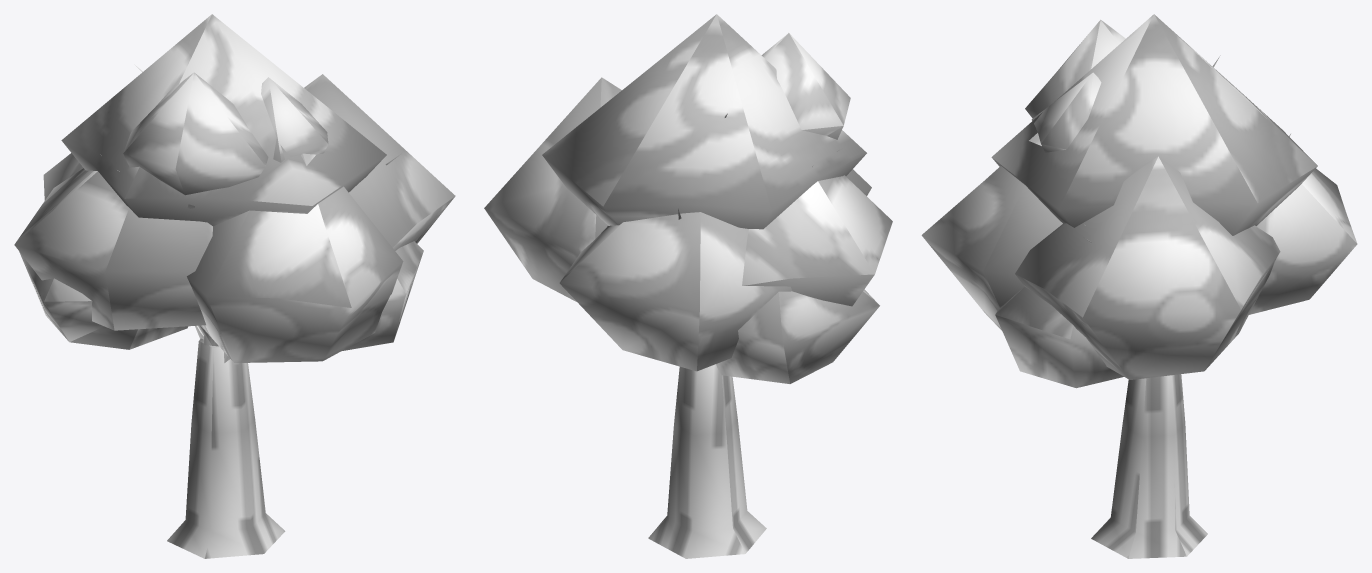
File: tree_maple_2.obj
3 renders of one model, left to right at view 1: azimuth 30°, elevation 25°; view 2: azimuth 150°, elevation 25°; view 3: azimuth 270°, elevation 25°, orthographic.
Visible parts, largest first — view 1: source_component_034, source_component_036, source_component_033, source_component_000, source_component_037, source_component_035, source_component_030, source_component_038, source_component_031, source_component_032; view 2: source_component_036, source_component_032, source_component_000, source_component_033, source_component_035, source_component_030, source_component_037; view 3: source_component_035, source_component_036, source_component_000, source_component_034, source_component_032, source_component_031, source_component_038, source_component_037.
Part boxes in pixels (<box>): source_component_034: <box>187,153,403,362</box>; source_component_036: <box>61,14,386,226</box>; source_component_033: <box>14,168,212,330</box>; source_component_000: <box>167,338,285,558</box>; source_component_037: <box>123,72,268,208</box>; source_component_035: <box>304,74,455,250</box>; source_component_030: <box>19,252,188,349</box>; source_component_038: <box>261,77,328,162</box>; source_component_031: <box>342,241,423,350</box>; source_component_032: <box>43,153,83,200</box>; source_component_036: <box>542,14,866,229</box>; source_component_032: <box>559,212,792,371</box>; source_component_000: <box>648,364,766,558</box>; source_component_033: <box>742,175,892,306</box>; source_component_035: <box>484,77,621,301</box>; source_component_030: <box>716,289,879,383</box>; source_component_037: <box>761,33,850,139</box>; source_component_035: <box>1015,156,1280,379</box>; source_component_036: <box>991,14,1317,235</box>; source_component_000: <box>1091,374,1207,558</box>; source_component_034: <box>921,133,1062,330</box>; source_component_032: <box>1249,168,1357,314</box>; source_component_031: <box>995,286,1123,388</box>; source_component_038: <box>1031,72,1101,152</box>; source_component_037: <box>1025,19,1125,118</box>.
Bounding box in the file's own units: 0.8284 × 1.08 × 0.8219.
